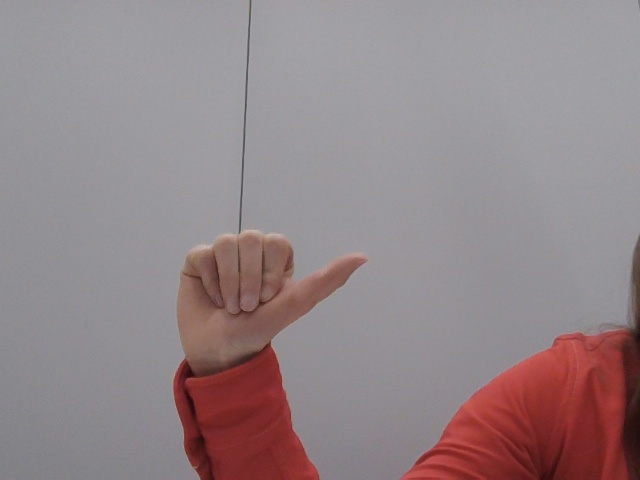left: (155, 213, 383, 394)
